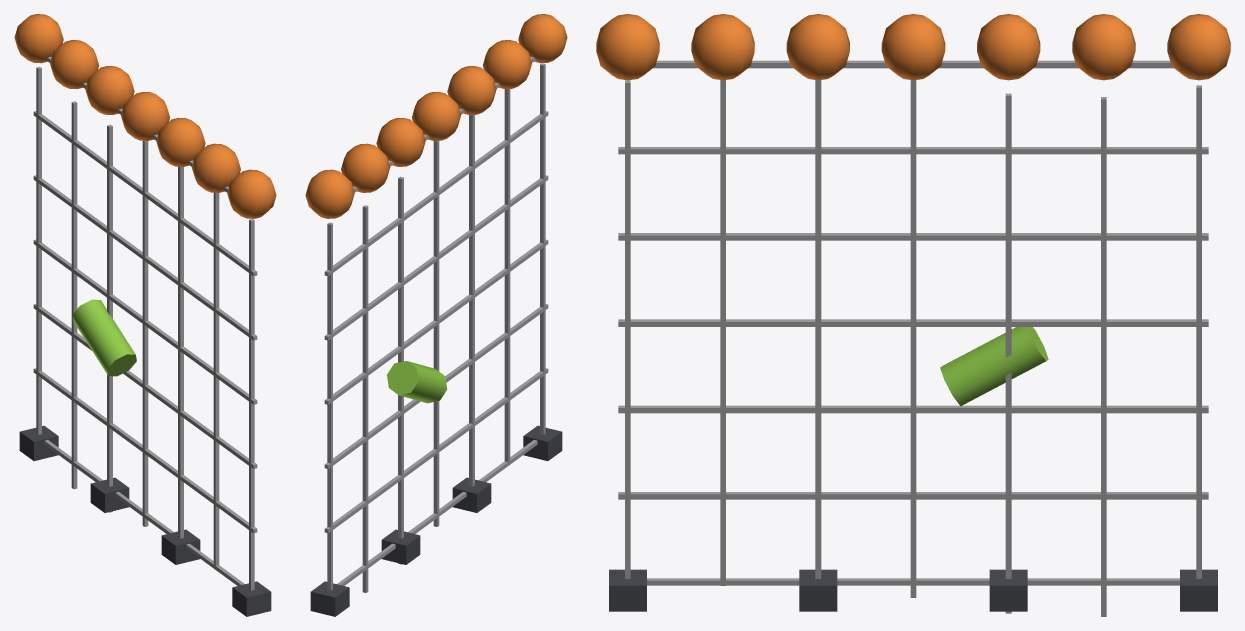
File: DriftNet.glb
The picture shows the model from 3 angles, left to right: view 1: azimuth 30°, elevation 25°; view 2: azimuth 150°, elevation 25°; view 3: azimuth 270°, elevation 25°; orthographic projection. The views are drawn at different scales.
Visible parts, largest first — view 1: DriftNet; view 2: DriftNet; view 3: DriftNet.
Boxes of the visible parts, bbox=[...] form: DriftNet: bbox=[14, 14, 276, 616]; DriftNet: bbox=[305, 14, 567, 616]; DriftNet: bbox=[596, 14, 1230, 616].
Size of the model in its own units: 0.7996 by 6.94 by 6.67.
Materials: 1 (1 with a texture image).
